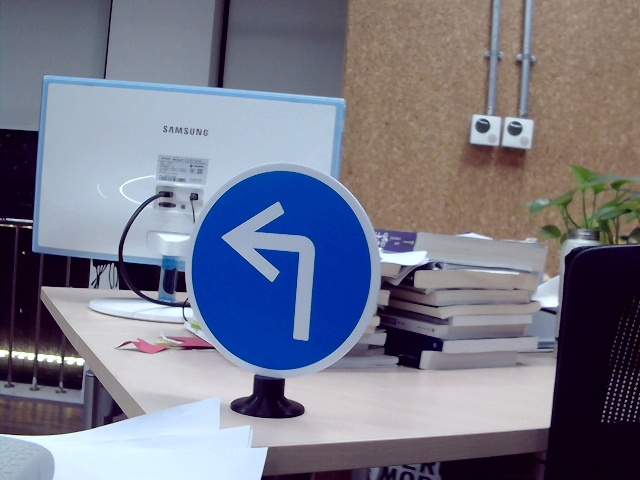turn_left: (223, 199, 322, 342)
